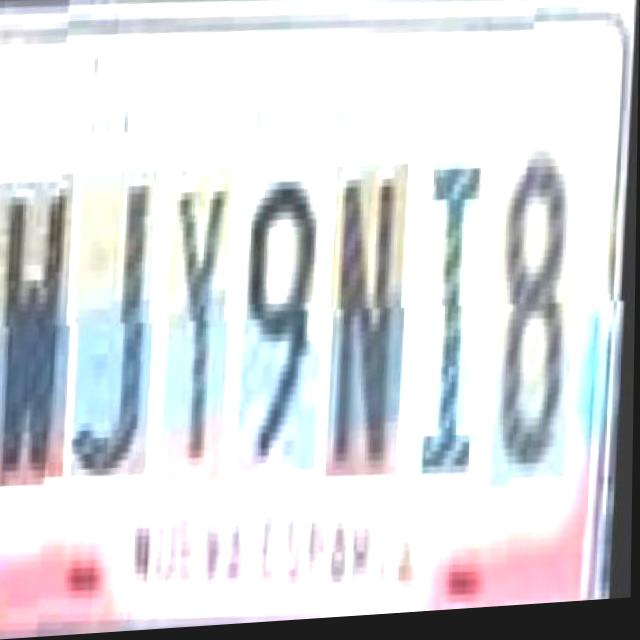8: (494, 150, 584, 493)
9: (240, 157, 333, 475)
i: (413, 153, 497, 486)
j: (76, 167, 164, 479)
n: (331, 162, 415, 480)
w: (0, 170, 81, 481)
y: (164, 167, 239, 484)
